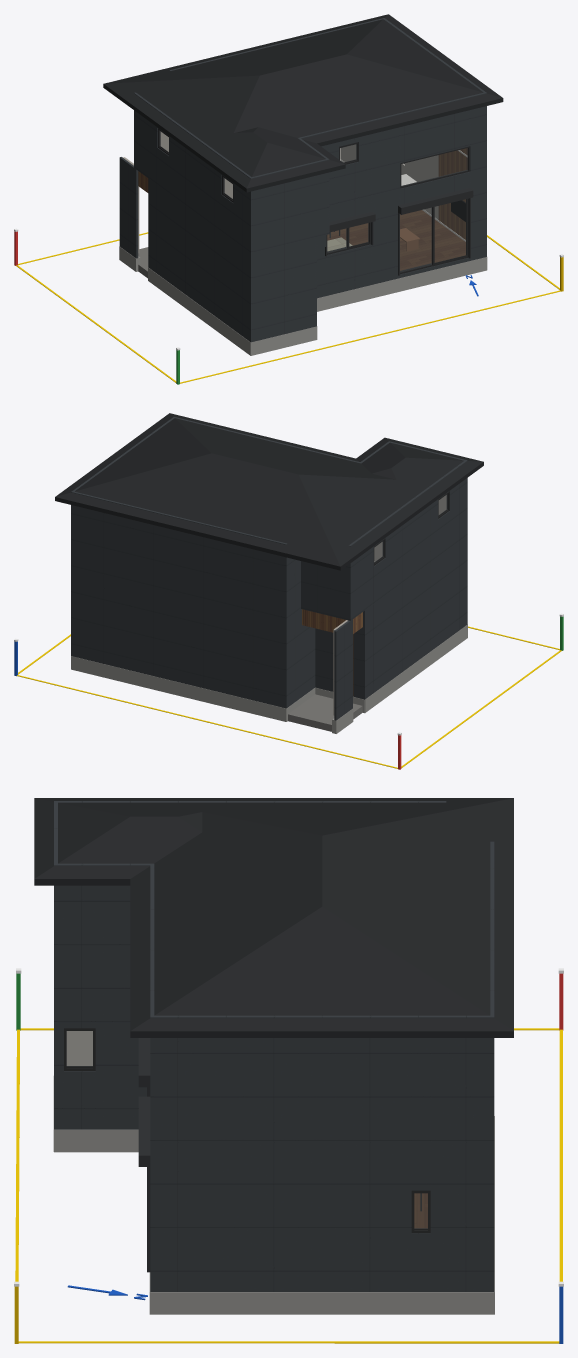
3 renders of one model, top to bottom at view 1: azimuth 30°, elevation 25°; view 2: azimuth 150°, elevation 25°; view 3: azimuth 270°, elevation 25°, orthographic. The views are drawn at different scales.
Parts seen in each view (by area): view 1: siding, roof, glass, found, floor, frame, shutter, lotline, wall, accent; view 2: siding, roof, found, lotline, tile, woodceil, wall; view 3: siding, roof, found, lotline, shutter, glass, wall, frame.
Boxes of the visible parts, x1,y1,x2,y2 form: siding: [119, 18, 486, 342]; roof: [103, 14, 503, 192]; glass: [160, 132, 467, 271]; found: [119, 246, 487, 355]; floor: [327, 210, 465, 270]; frame: [158, 128, 469, 274]; shutter: [325, 188, 473, 275]; lotline: [16, 232, 560, 383]; wall: [123, 131, 438, 253]; accent: [438, 148, 467, 239]; siding: [71, 417, 467, 720]; roof: [55, 413, 483, 570]; found: [71, 624, 467, 733]; lotline: [17, 626, 561, 768]; tile: [288, 694, 362, 731]; woodceil: [302, 609, 362, 633]; wall: [333, 495, 446, 715]; siding: [54, 801, 494, 1291]; roof: [34, 798, 513, 1037]; found: [53, 1076, 494, 1314]; lotline: [15, 1028, 562, 1343]; shutter: [138, 1038, 150, 1272]; glass: [67, 1031, 427, 1227]; wall: [66, 1031, 92, 1065]; frame: [64, 1028, 430, 1233].
Size of the model in its own units: 14.14 by 7.01 by 10.42.
Materials: 31 (6 with a texture image).
